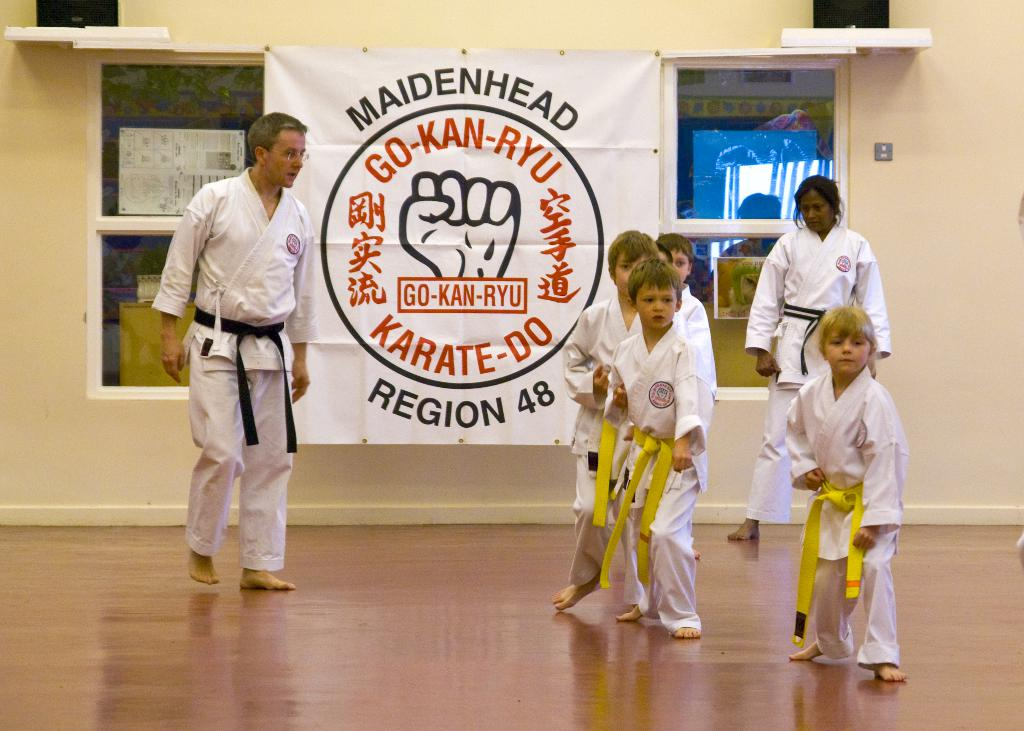Human_hand: (160, 339, 187, 384), (289, 361, 310, 404), (670, 446, 693, 472), (591, 364, 610, 394), (757, 355, 781, 378), (852, 528, 877, 547), (802, 470, 824, 491), (610, 384, 628, 406), (621, 426, 635, 442)
